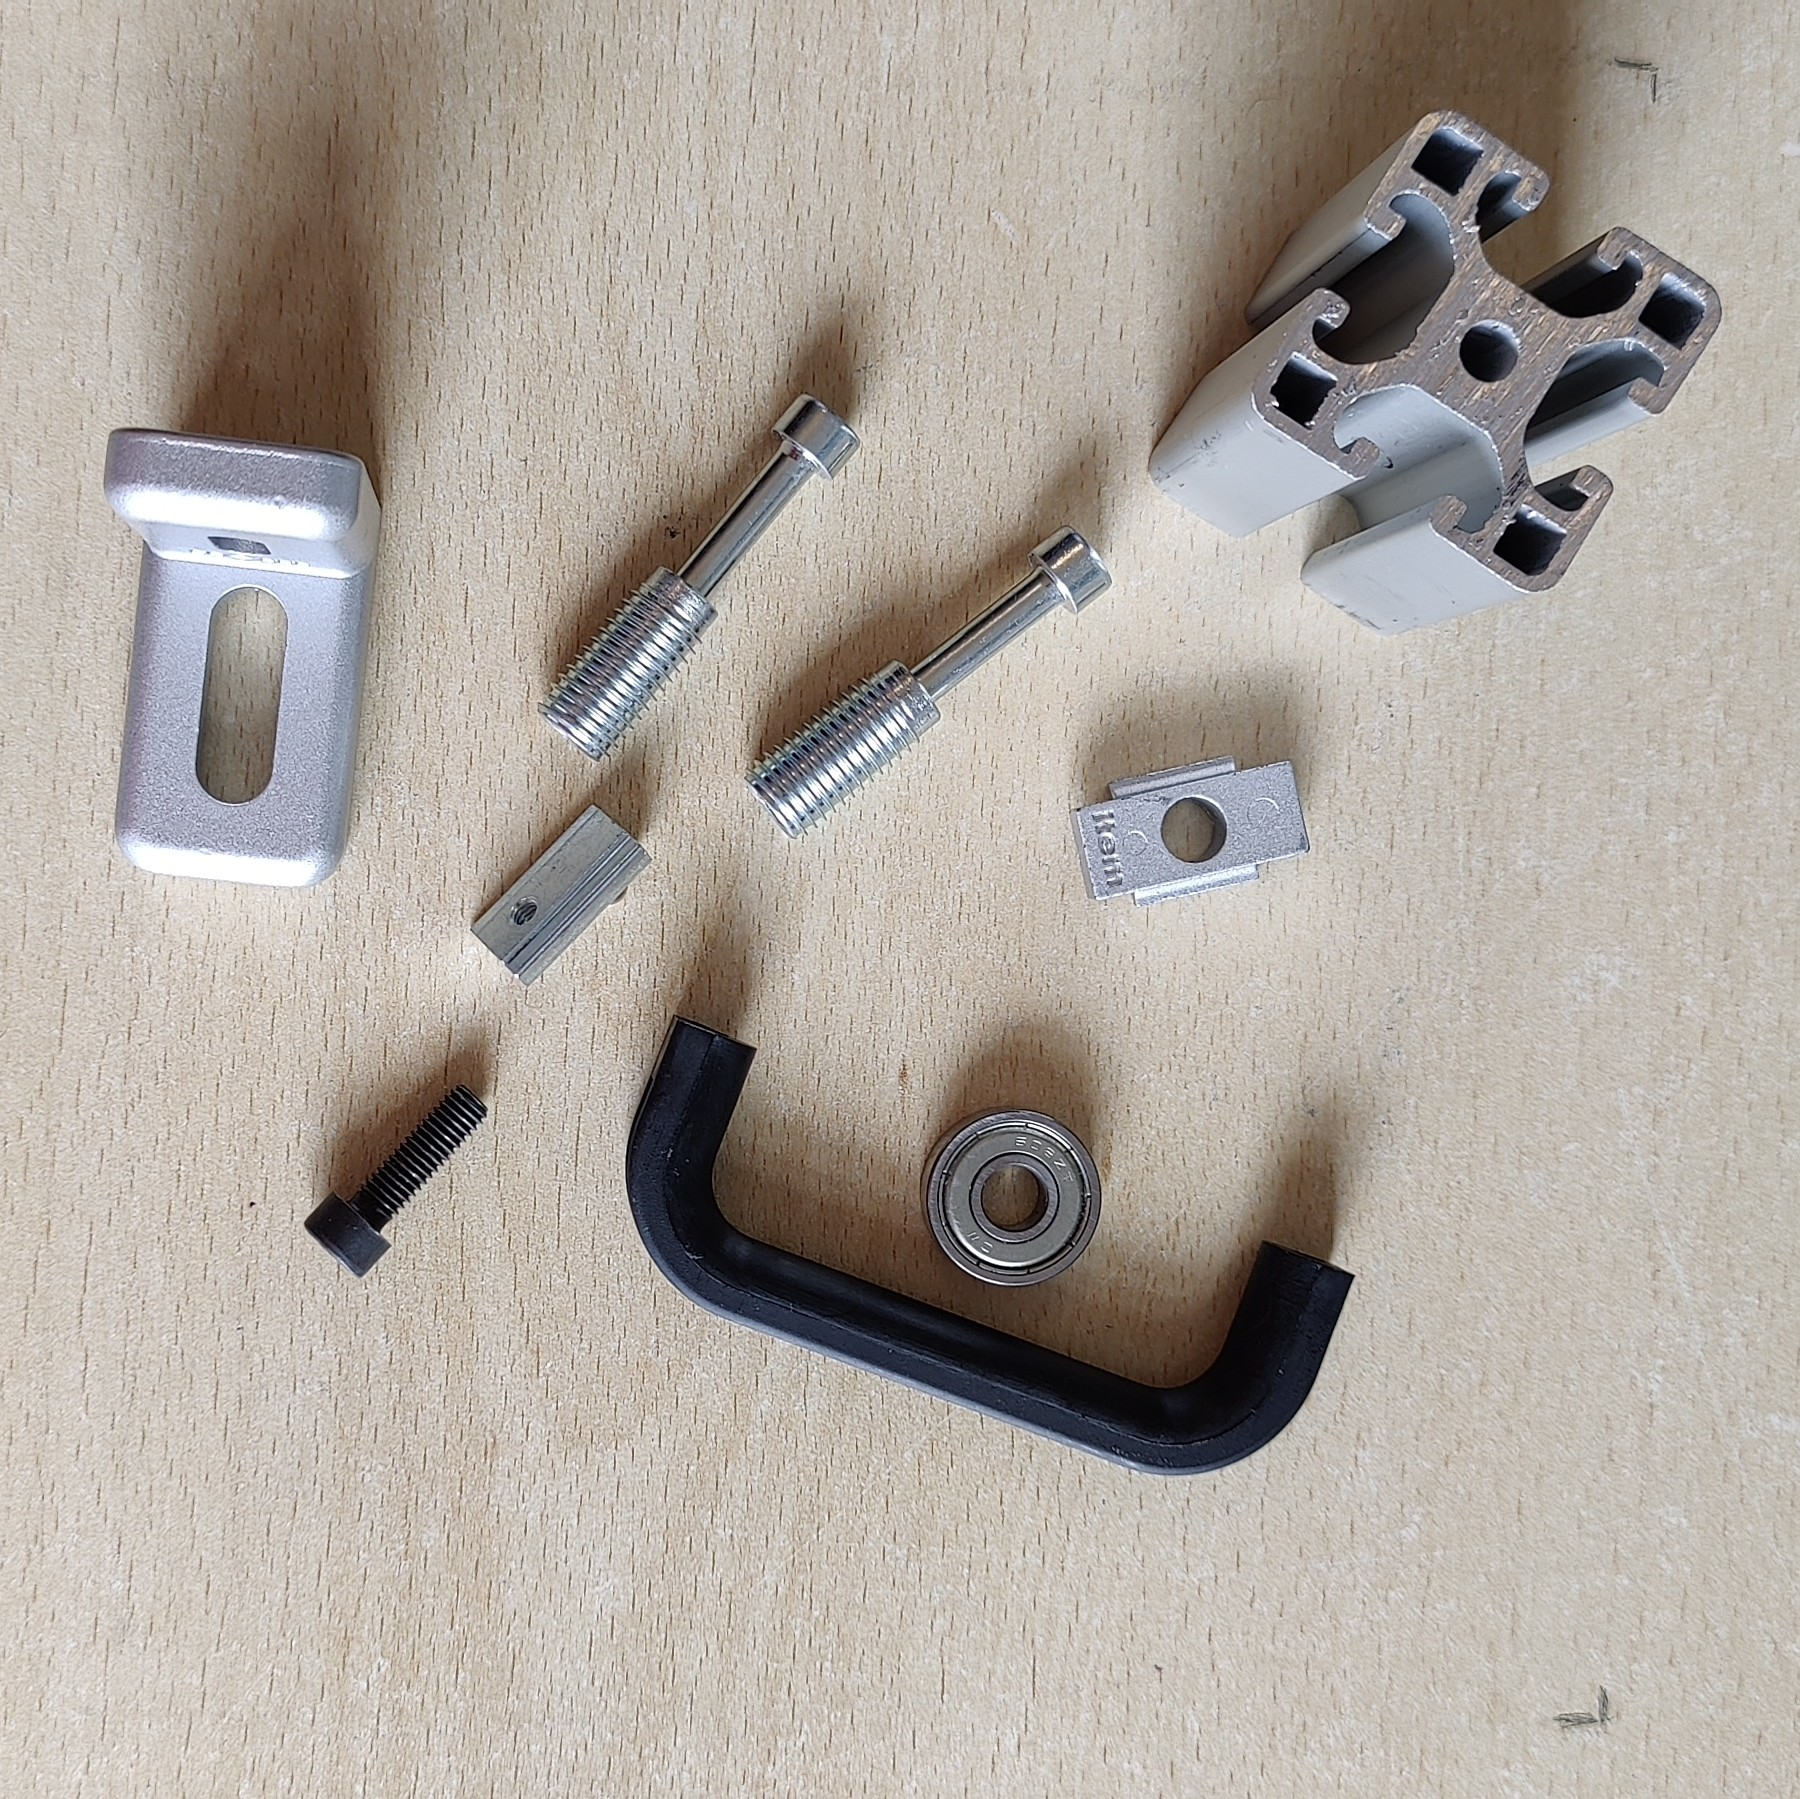Aluminium Extension: (1146, 105, 1724, 639)
Ball Bearing: (917, 1104, 1103, 1292)
Multiwinkel: (99, 422, 385, 891)
Pull Handle: (623, 1007, 1359, 1479)
Shoulder Socket Head Cap Screw: (534, 390, 863, 764), (739, 521, 1117, 845)
Socket Head Cap Screw: (301, 1081, 491, 1277)
T Nut Square: (1066, 751, 1314, 911)
T Spring Nut: (469, 801, 652, 990)
